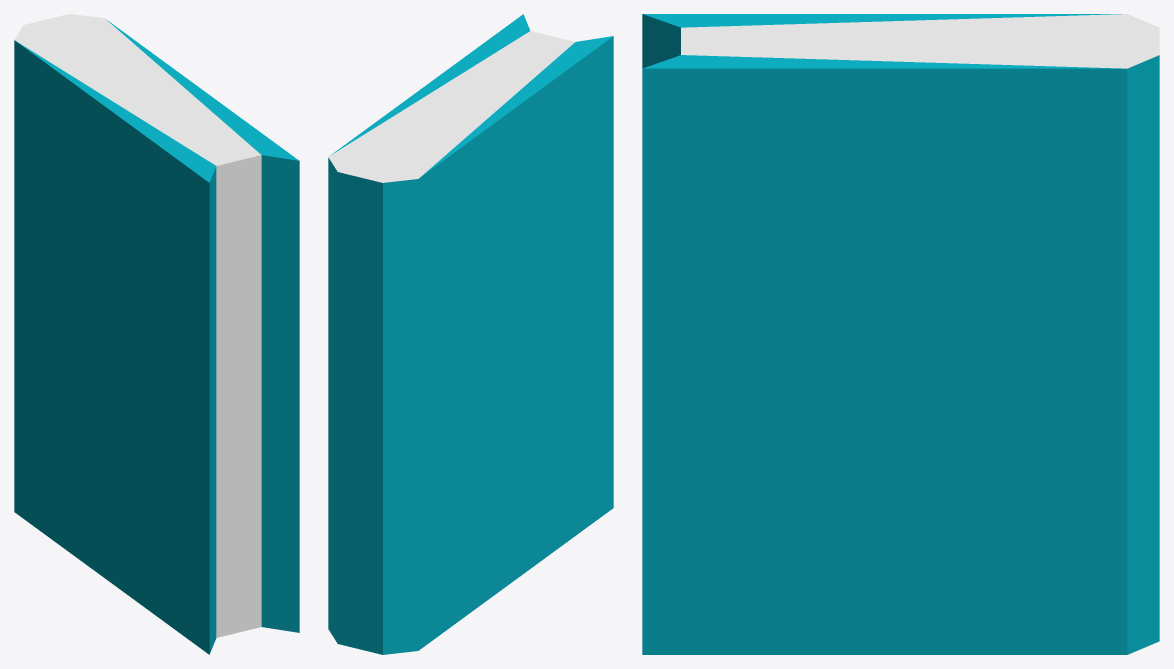
File: blue_book.glb
The picture shows the model from 3 angles, left to right: view 1: azimuth 30°, elevation 25°; view 2: azimuth 150°, elevation 25°; view 3: azimuth 270°, elevation 25°; orthographic projection. The views are drawn at different scales.
Visible parts, largest first — view 1: group331912370; view 2: group331912370; view 3: group331912370.
Part boxes in pixels (x1=…): group331912370: x1=14, y1=14, x2=299, y2=654; group331912370: x1=328, y1=14, x2=613, y2=654; group331912370: x1=642, y1=14, x2=1159, y2=654.
Size of the model in its own units: 0.0466 by 0.2331 by 0.1865.
